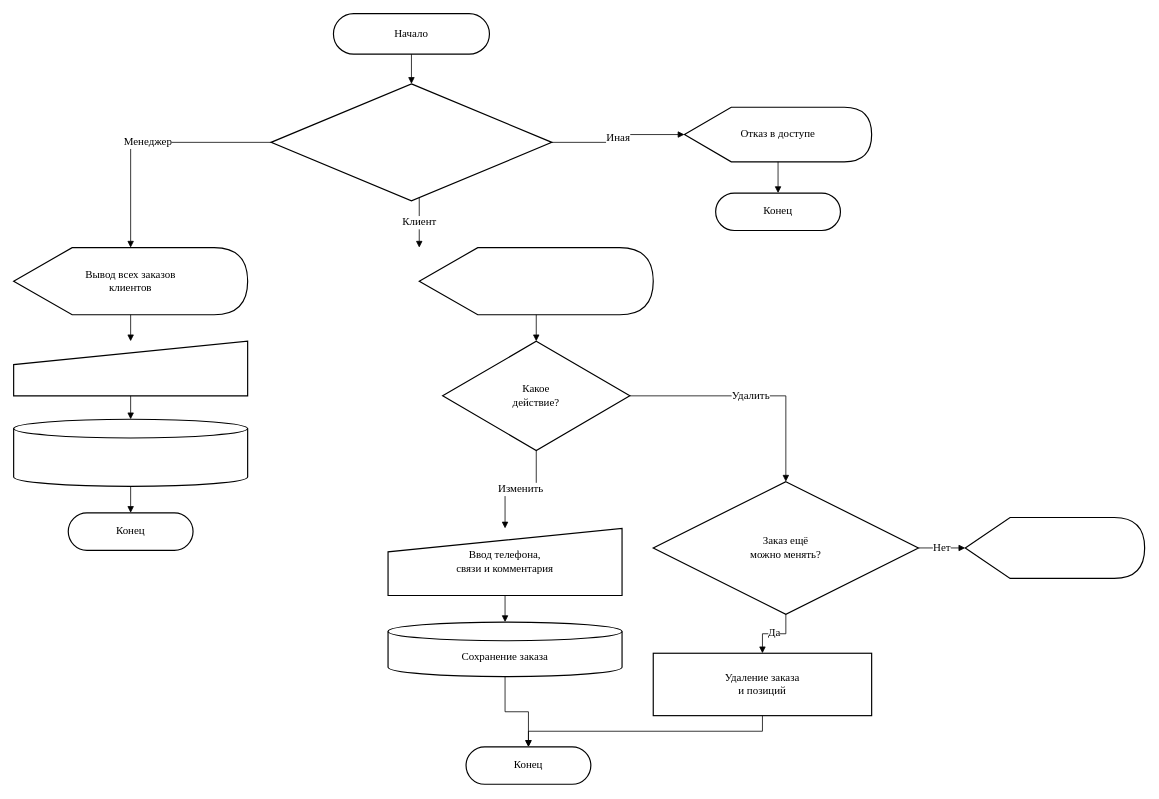
Some shapes in this 1159 by 799 pixel diagram are drawn without their labels. The shapes that lost their labels are listed below. From the top down, each one's centre as x and y in pixels, then its label:
At point 411,142: "Какая роль у пользователя?".
At point 535,281: "Вывод заказов этого клиента".
At point 130,368: "Ввод нового статуса".
At point 130,452: "Обновление статуса в базе".
At point 1054,548: "Сообщение о запрете".
